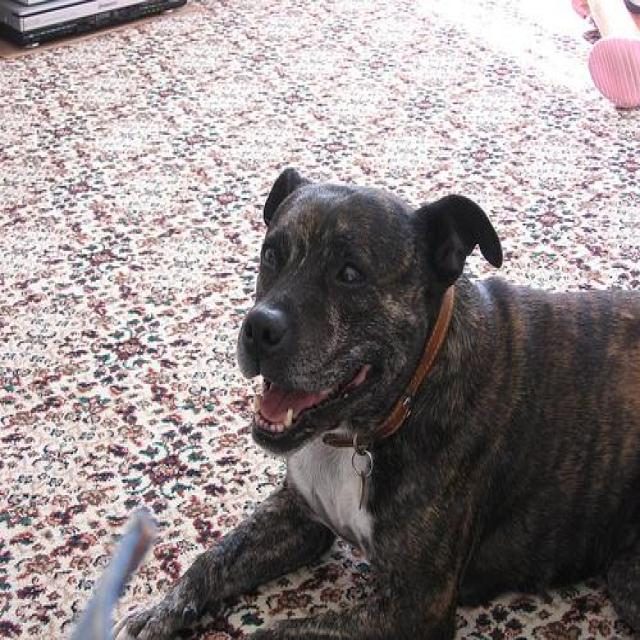staffordshire_bullterrier: (111, 162, 639, 638)
